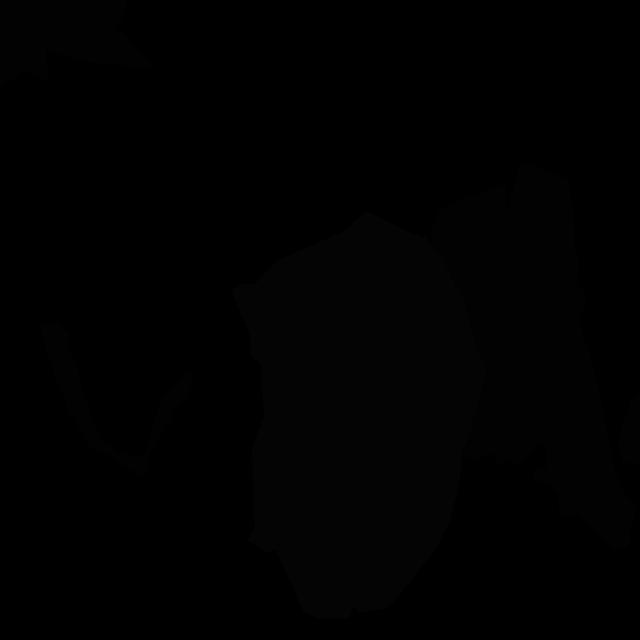cardboard: (431, 161, 636, 550), (40, 323, 194, 476), (618, 390, 640, 465)
soft_plastic: (231, 211, 487, 618)
